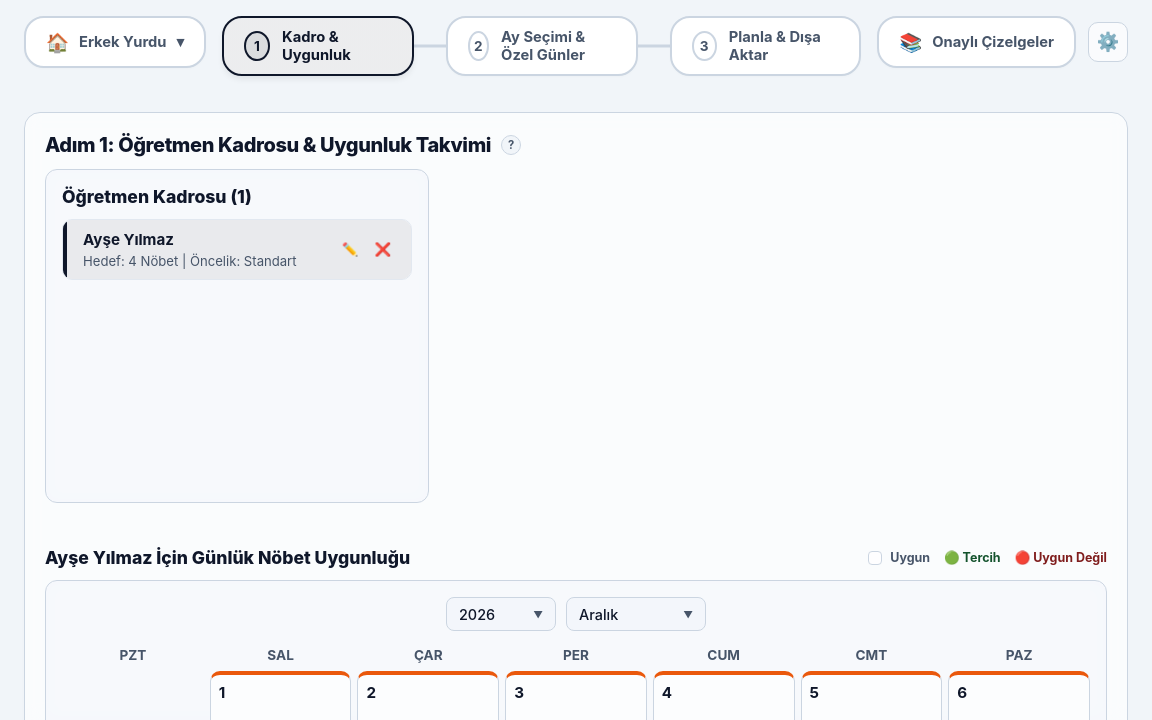
Scenario: choosing a duty post › switches to another post from the menu and remembers it
The image size is (1152, 720).
expect the heading "Öğretmen Kadrosu (1)" is shown: met, box top-left (62, 186), bottom-right (252, 207)
Click the button with aria-label "Nöbet yeri: " at coordinates (115, 42), box top-left (24, 16), bottom-right (206, 68)
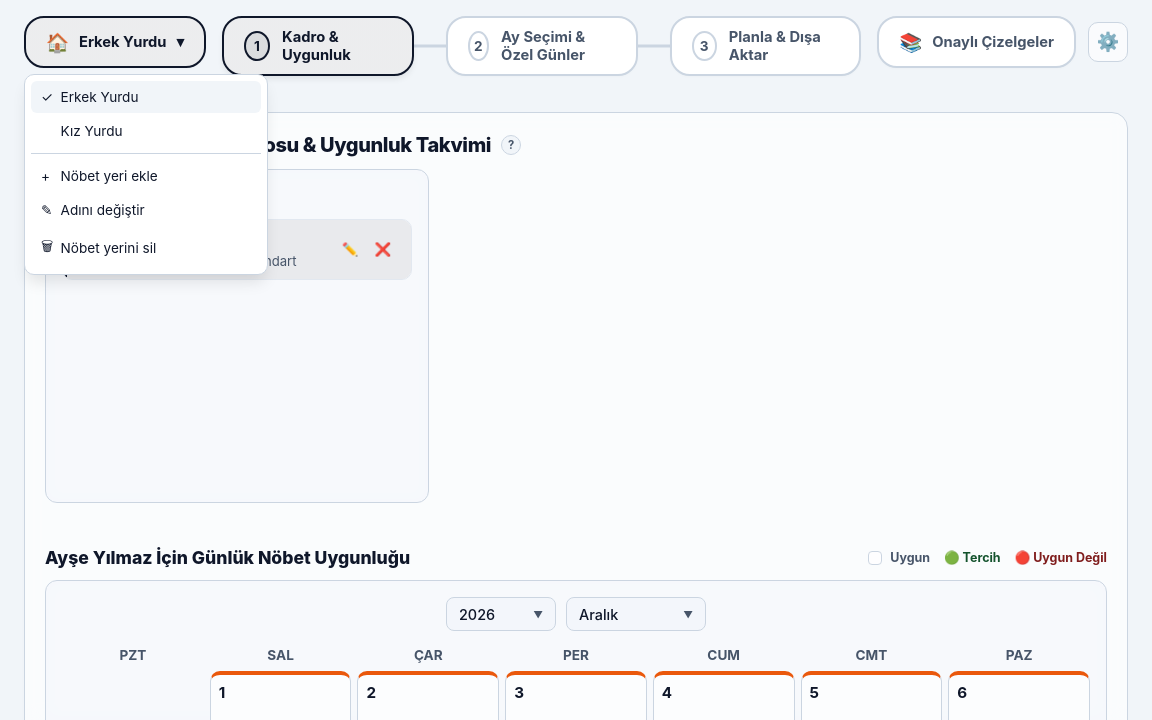
Click the menu item "Kız Yurdu" at coordinates (146, 131), box top-left (31, 115), bottom-right (261, 147)
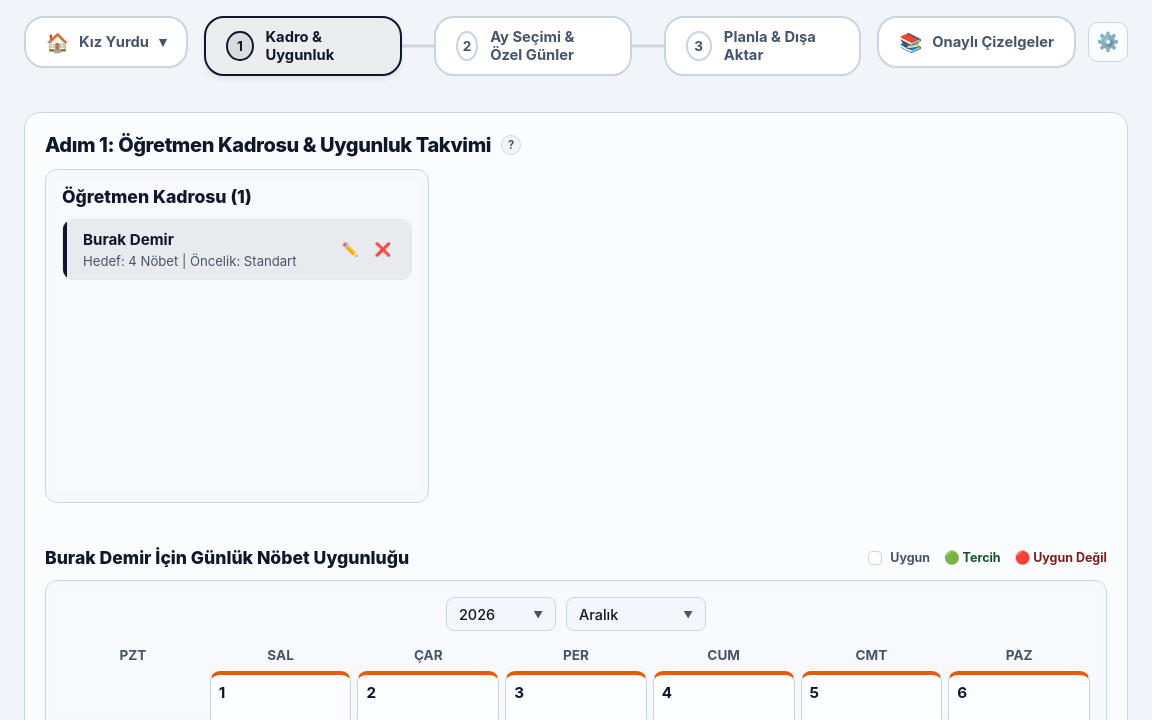
expect the button with aria-label "Burak Demir öğretmenini seç" is shown: met, box top-left (83, 230), bottom-right (338, 269)
